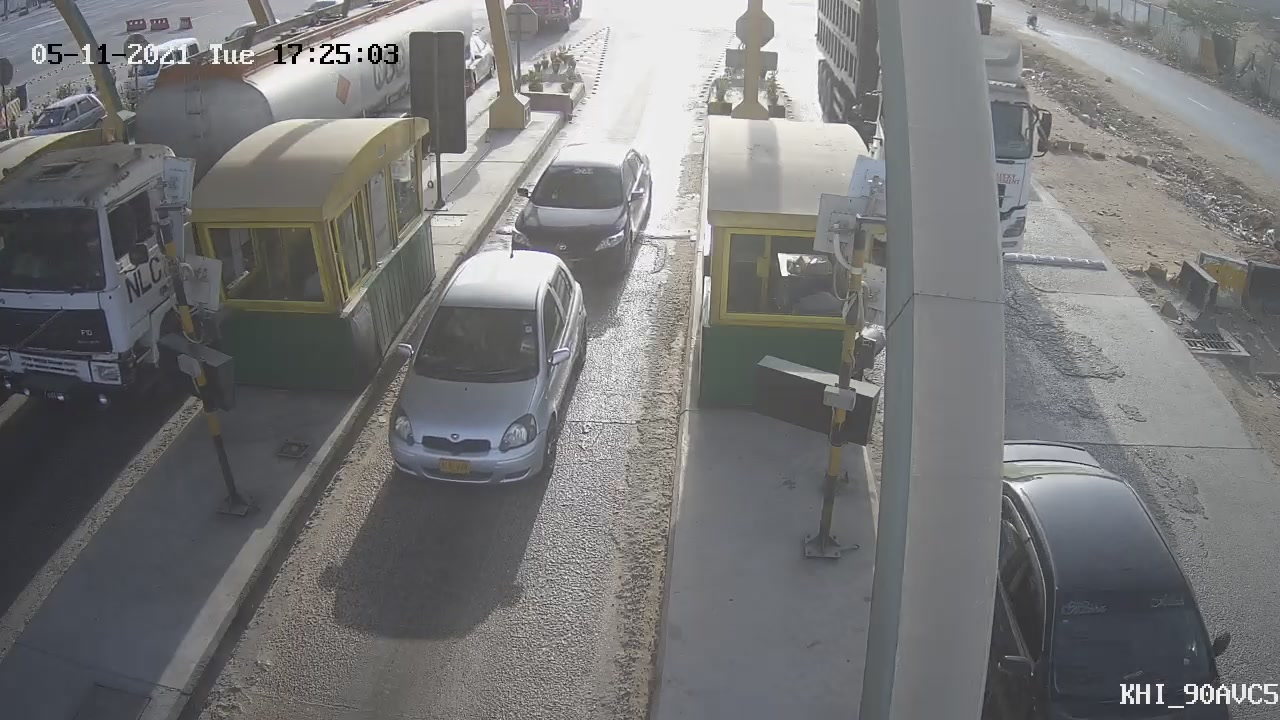F1: (364, 227, 601, 518), (497, 121, 668, 298)
